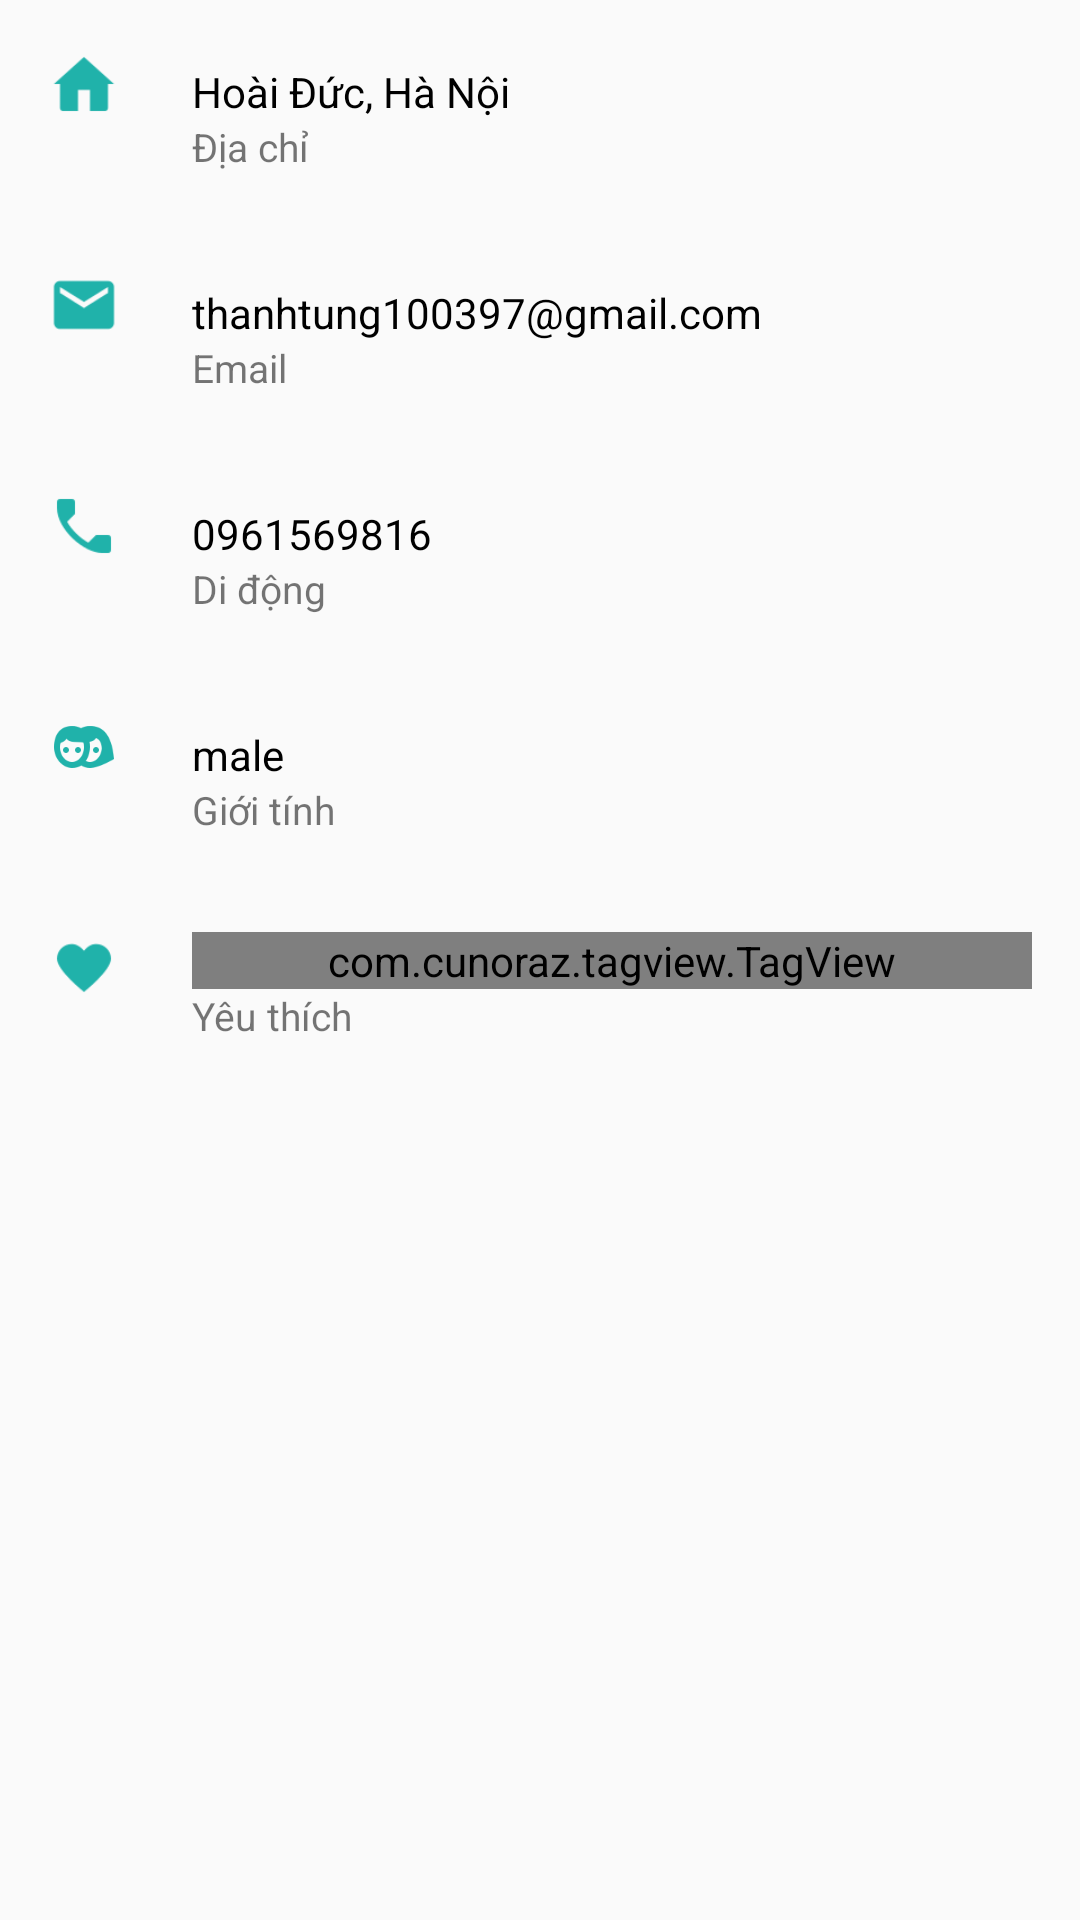

Screen size 1080px×1920px. Icon name, then its center in pixels as point (x, y):
favorite: point (84, 967)
gender: point (84, 747)
home: point (84, 84)
phone: point (84, 526)
